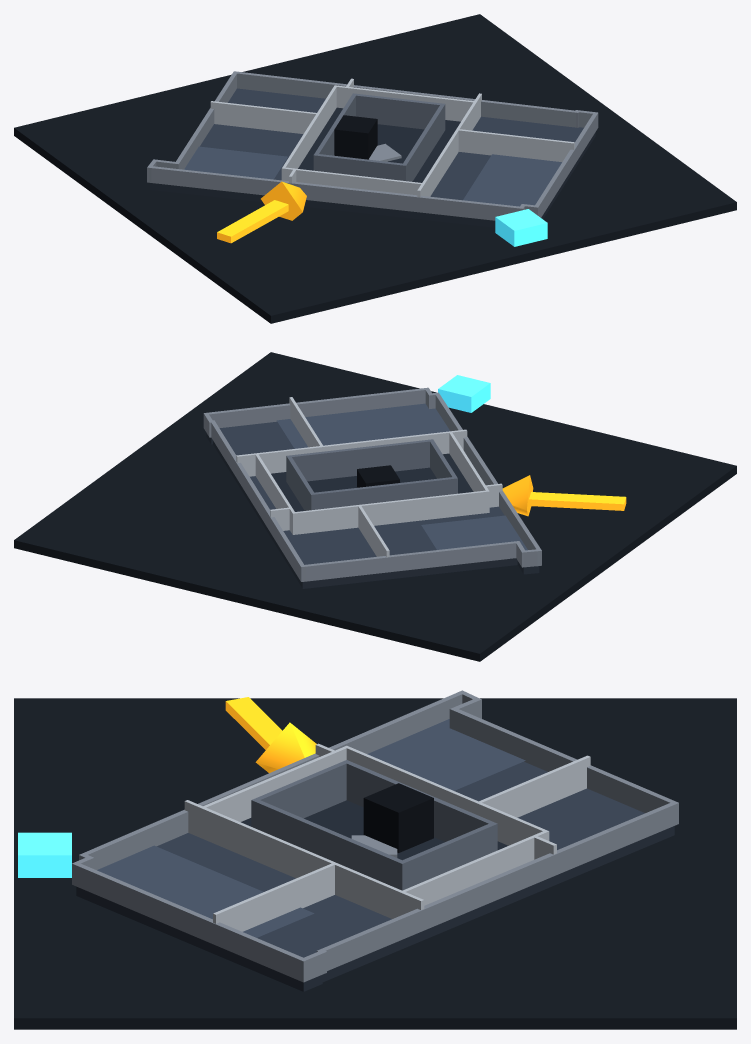
3 views of the same model, one above another, from view 1: azimuth 30°, elevation 25°; view 2: azimuth 150°, elevation 25°; view 3: azimuth 270°, elevation 25° (orthographic). The views are drawn at different scales.
Visible parts, largest first — view 1: FireSight 1018 Mission St floor 3; view 2: FireSight 1018 Mission St floor 3; view 3: FireSight 1018 Mission St floor 3.
Boxes of the visible parts, <box> form: FireSight 1018 Mission St floor 3: <box>14,14,736,323</box>; FireSight 1018 Mission St floor 3: <box>14,352,736,661</box>; FireSight 1018 Mission St floor 3: <box>14,690,736,1029</box>.
Bounding box in the file's own units: 0.3649 × 0.037 × 0.3485.
